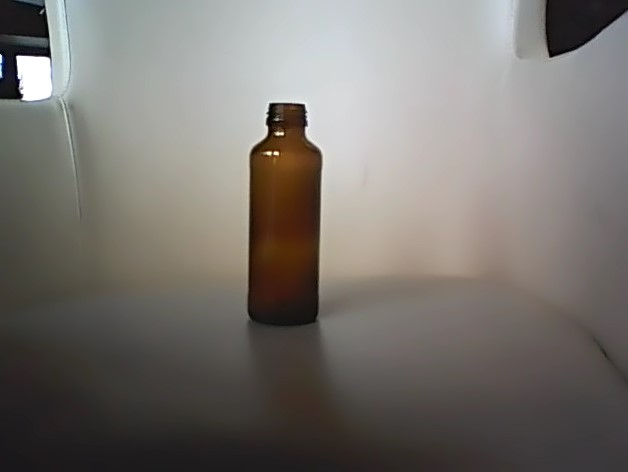Glass: (242, 96, 326, 332)
